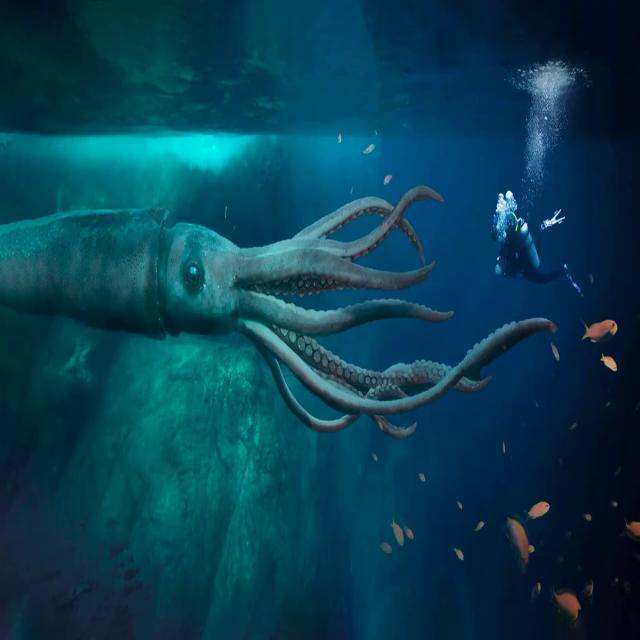octopus: (0, 175, 556, 445)
